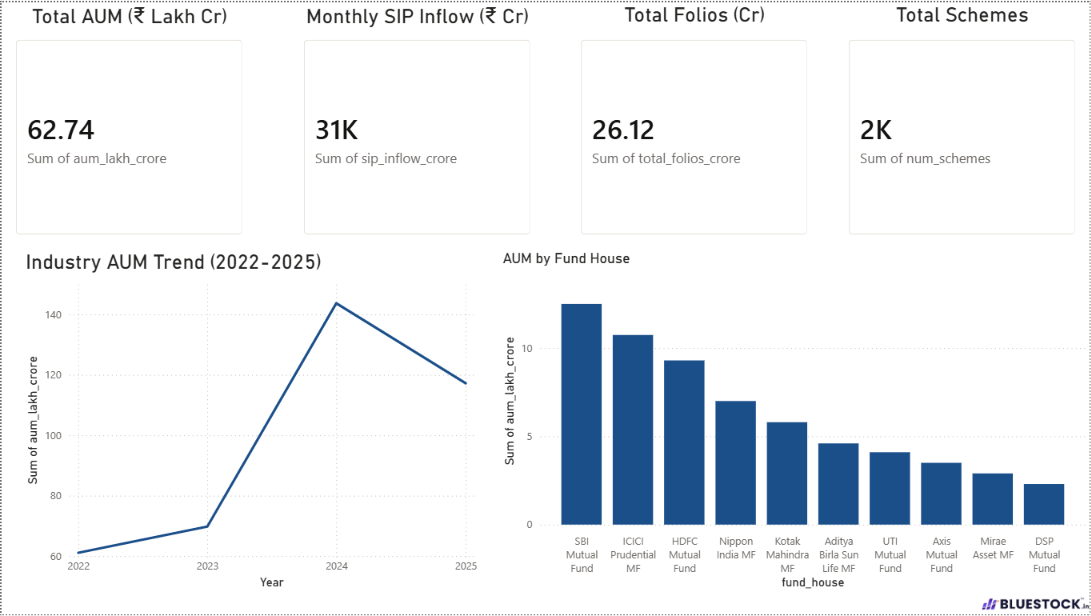

What the dashboard file says about the page in this screenshot:
{"tool":"powerbi","page":{"name":"Industry Overview","canvas":[1280,720],"ordinal":0},"visuals":[{"type":"cardVisual","title":"Total AUM (₹ Lakh Cr)","fields":{"Data":["Sum(03_aum_by_fund_house_cleaned.aum_lakh_crore)"]},"box":[0,0,300.5,290.9],"z":0},{"type":"cardVisual","title":"Monthly SIP Inflow (₹ Cr)","fields":{"Data":["Sum(04_monthly_sip_inflows_cleaned.sip_inflow_crore)"]},"box":[338.9,0,300.5,290.9],"z":1},{"type":"cardVisual","title":"Total Schemes","fields":{"Data":["Sum(03_aum_by_fund_house_cleaned.num_schemes)"]},"box":[979.8,0,300.5,290.9],"z":2},{"type":"cardVisual","title":"Total Folios (Cr)","fields":{"Data":["Sum(06_industry_folio_count_cleaned.total_folios_crore)"]},"box":[664.2,0,300.5,290.9],"z":3},{"type":"lineChart","title":"Industry AUM Trend (2022-2025)","fields":{"Category":["03_aum_by_fund_house_cleaned.date.Variation.Date Hierarchy.Year","03_aum_by_fund_house_cleaned.date.Variation.Date Hierarchy.Quarter","03_aum_by_fund_house_cleaned.date.Variation.Date Hierarchy.Month","03_aum_by_fund_house_cleaned.date.Variation.Date Hierarchy.Day"],"Y":["Sum(03_aum_by_fund_house_cleaned.aum_lakh_crore)"]},"box":[23.3,290.9,540.7,404.8],"z":4},{"type":"clusteredColumnChart","title":"AUM by Fund House","fields":{"Category":["03_aum_by_fund_house_cleaned.fund_house"],"Y":["Sum(03_aum_by_fund_house_cleaned.aum_lakh_crore)"]},"box":[584.6,290.9,695.7,404.8],"z":5},{"type":"image","box":[1152.9,695.7,127.1,24.3],"z":6}]}

Visuals, with their boxes in screenshot pixels (x1, y1, x2, y2), scaled from the page's 1280x720 canvas onto the 1091x616 screenshot:
"Total AUM (₹ Lakh Cr)" cardVisual: x1=0 y1=0 x2=256 y2=249
"Monthly SIP Inflow (₹ Cr)" cardVisual: x1=289 y1=0 x2=545 y2=249
"Total Schemes" cardVisual: x1=835 y1=0 x2=1090 y2=249
"Total Folios (Cr)" cardVisual: x1=566 y1=0 x2=822 y2=249
"Industry AUM Trend (2022-2025)" lineChart: x1=20 y1=249 x2=481 y2=595
"AUM by Fund House" clusteredColumnChart: x1=498 y1=249 x2=1090 y2=595
image: x1=983 y1=595 x2=1090 y2=615
